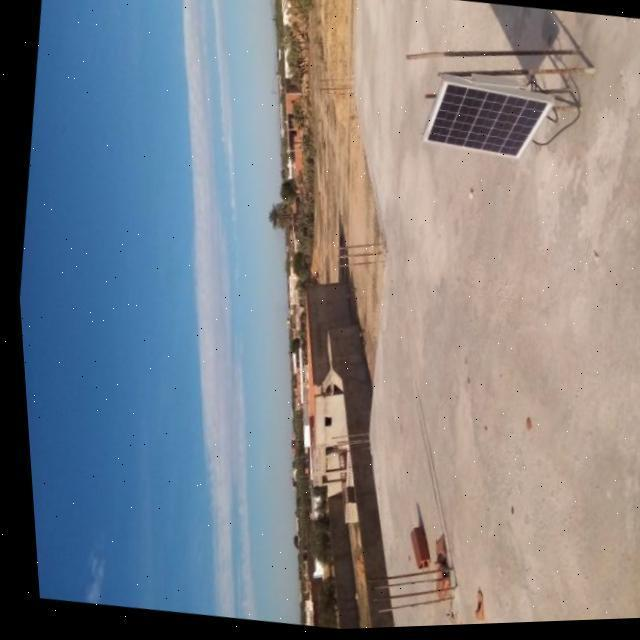Normal Solar Panel: (414, 77, 556, 168)
